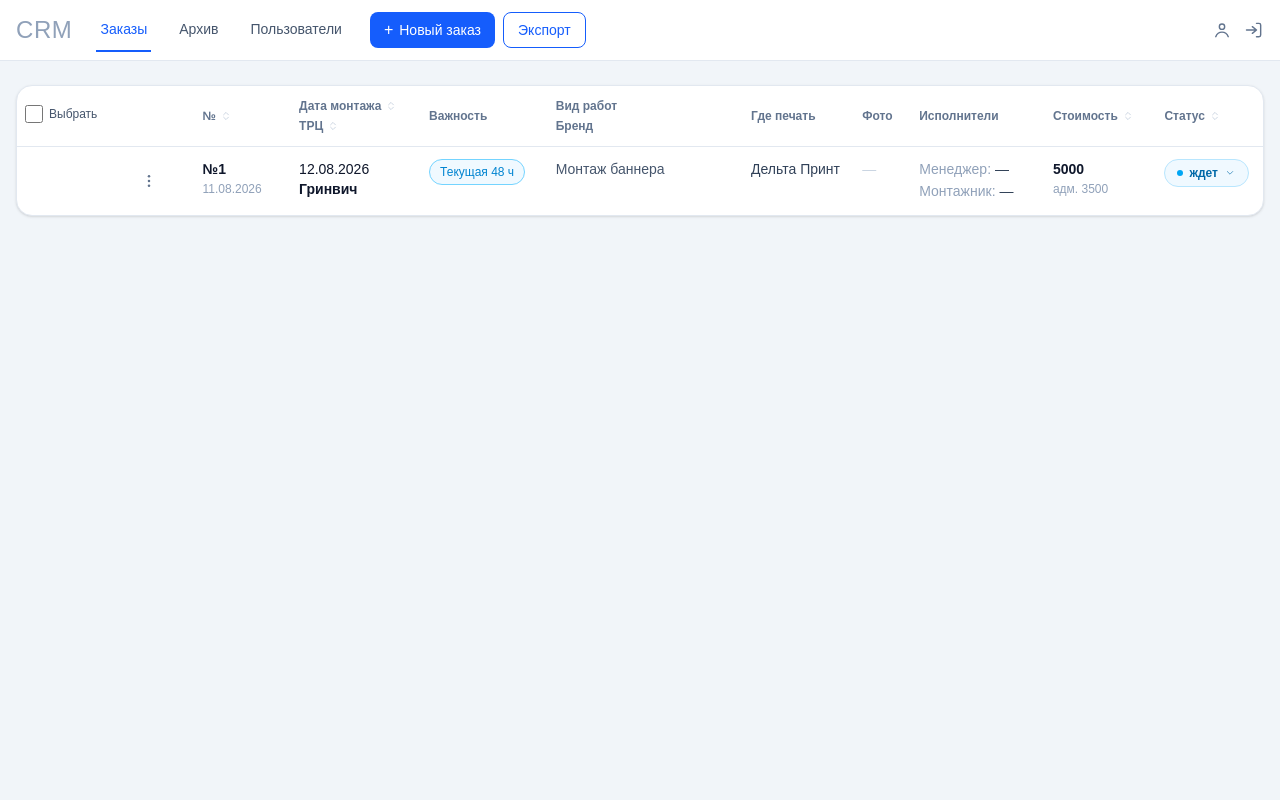
Scenario: OrdersPage — групповой выбор заявок (главный чекбокс «Выбрать») › «×» в панели групповых действий снимает выделение и выключает режим выбора
Step 1. Click the checkbox labelled "Выбрать" → (34,114), box [25,105,43,123]
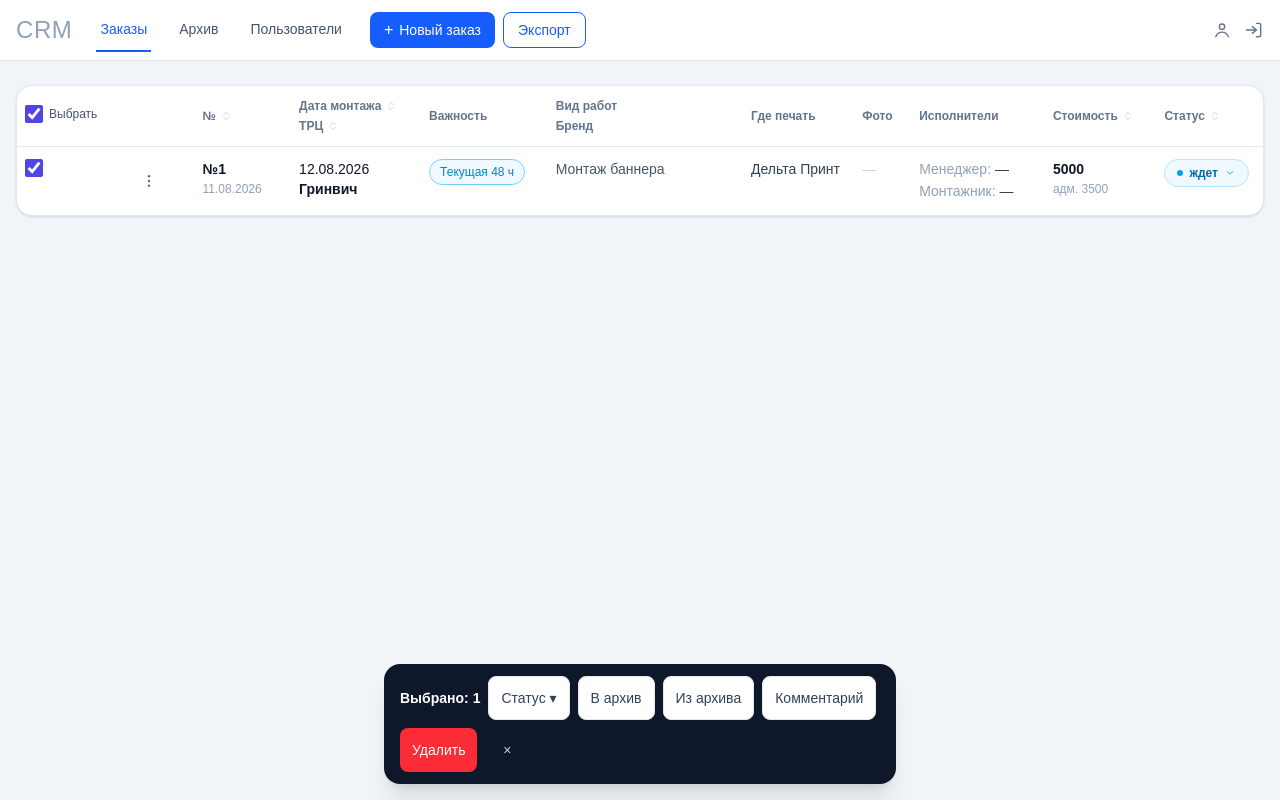
Now the text "Выбрано: 1" is shown, box [400,688,480,708]
Step 2. Click the button named "Снять выделение" → (508,750), box [486,728,530,772]
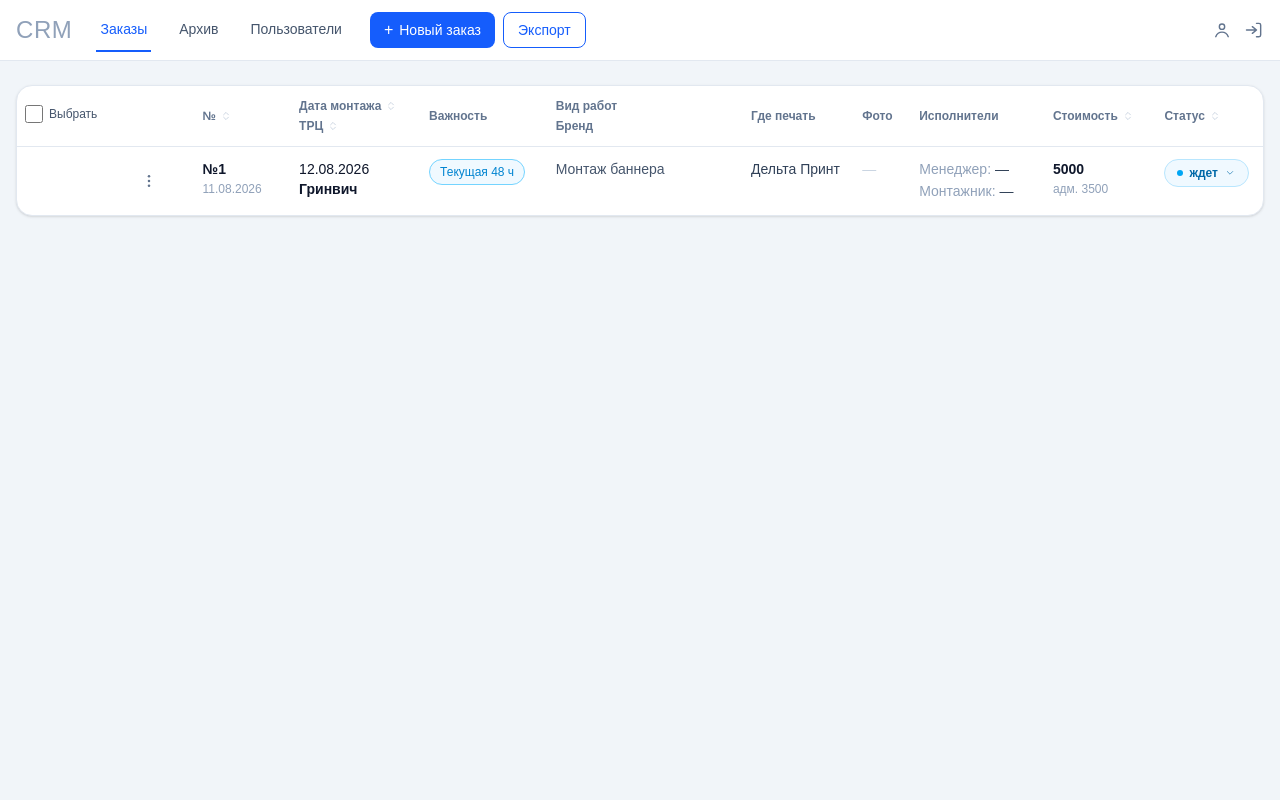
Now the text "Выбрано:" is gone
